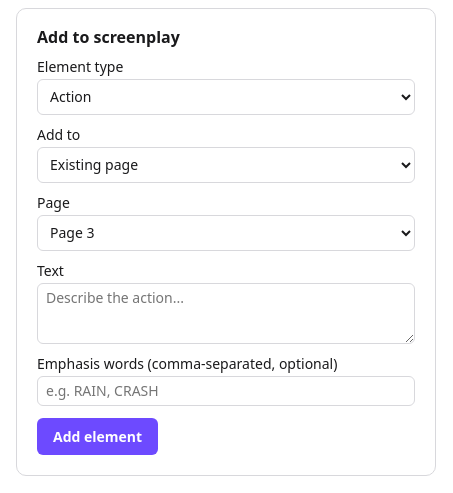
validation › rejects an empty sceneHeading
Select "Scene Heading" in the dropdown labelled "Element type" at [226, 97], box top-left (37, 79), bottom-right (415, 115)
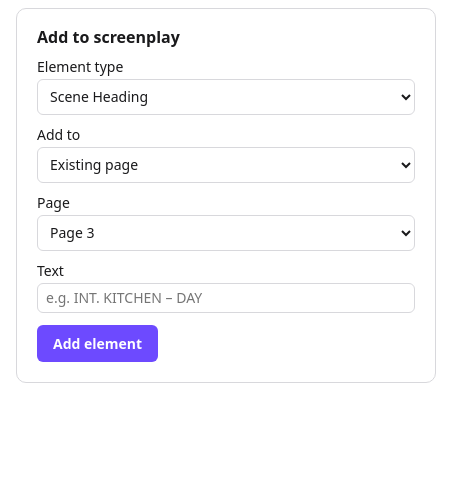
Submit the form
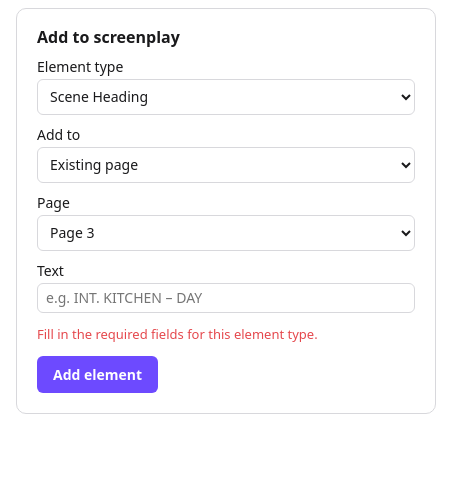
Expected: the text with class "form-error" reads "Fill in the required fields for this element type.", top-left (37, 325), bottom-right (318, 343)
